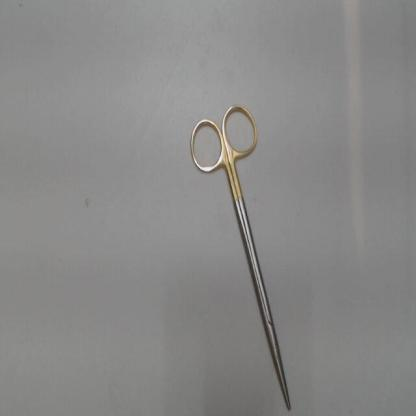7 Metzenbaum Scissors: (186, 98, 294, 413)
